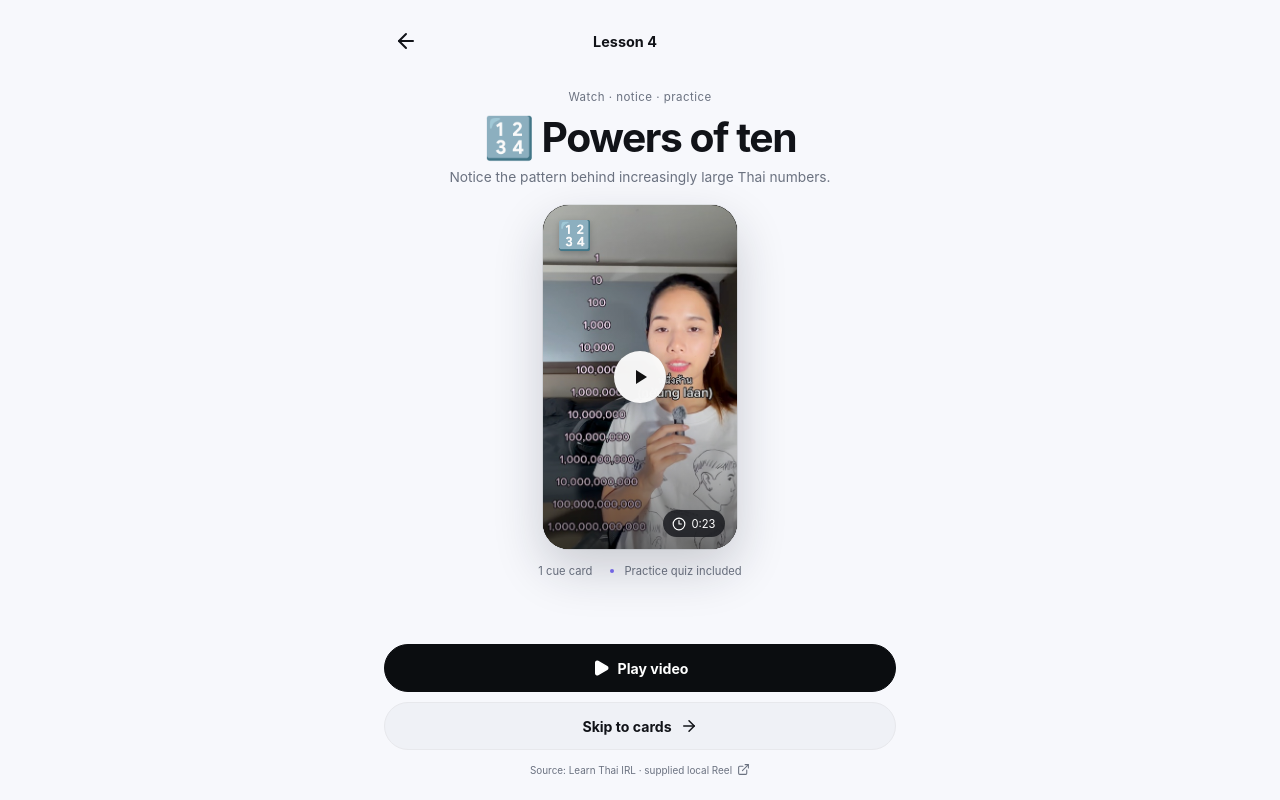
Test case: lesson practice quiz feedback sounds › plays the configured correct cue and a separate perfect-score celebration
Click the button "Skip to cards" at (640, 726), box [384,702,896,750]
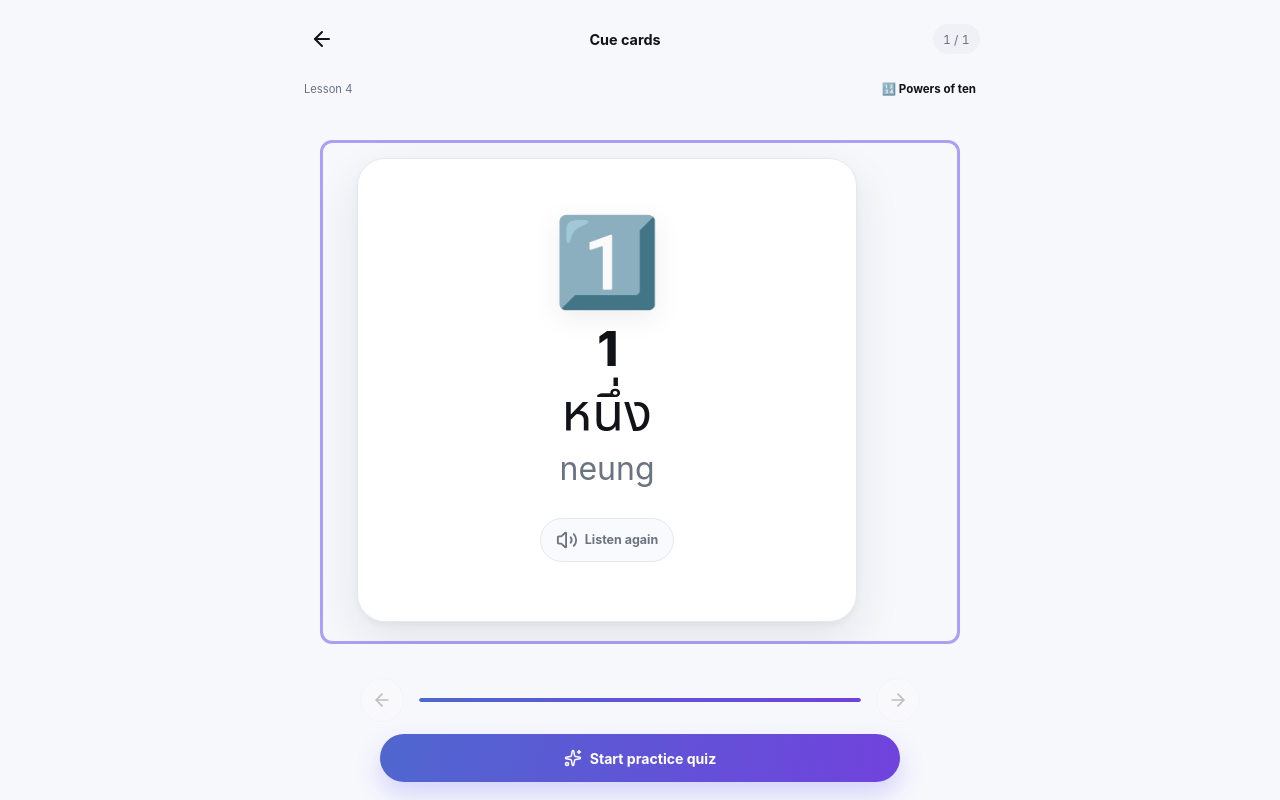
Click the button "Start practice quiz" at (640, 758), box [380,734,900,782]
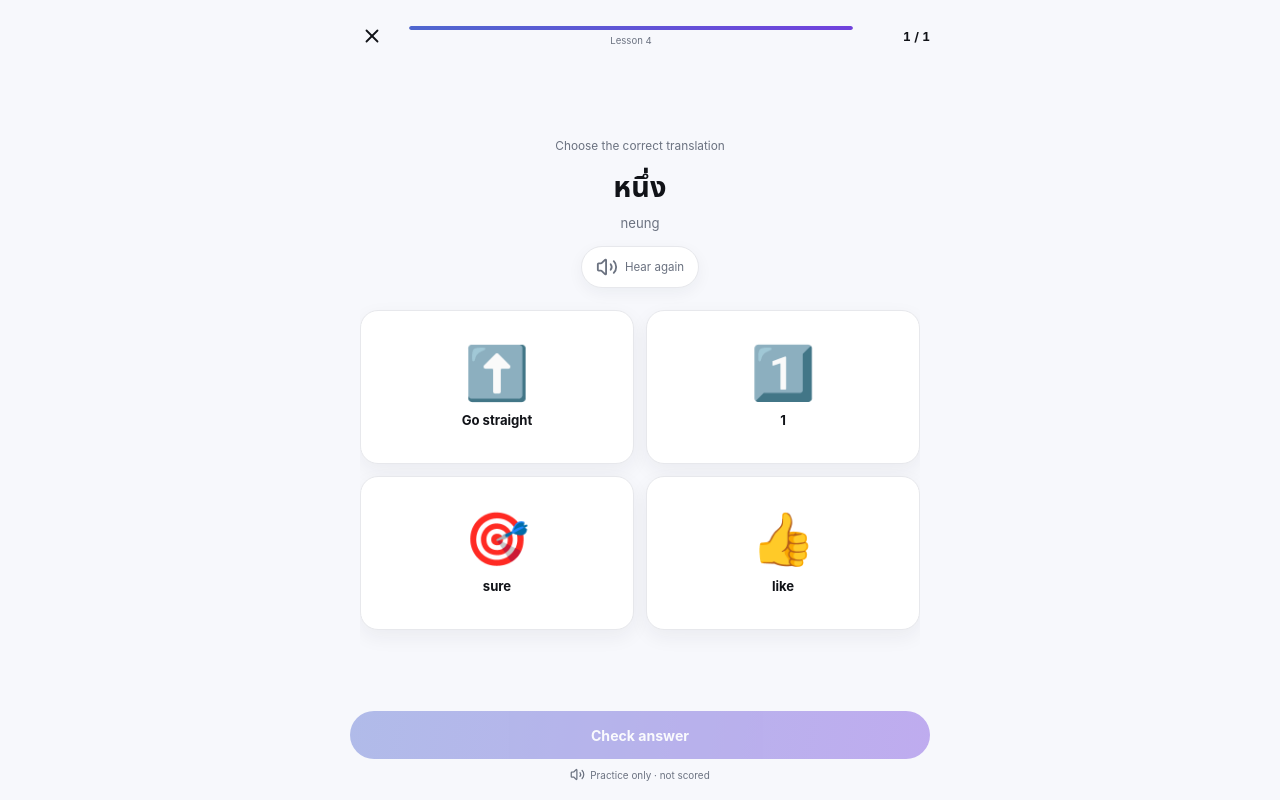
Click the button "1️⃣ 1" at (783, 387), box [646,310,920,464]
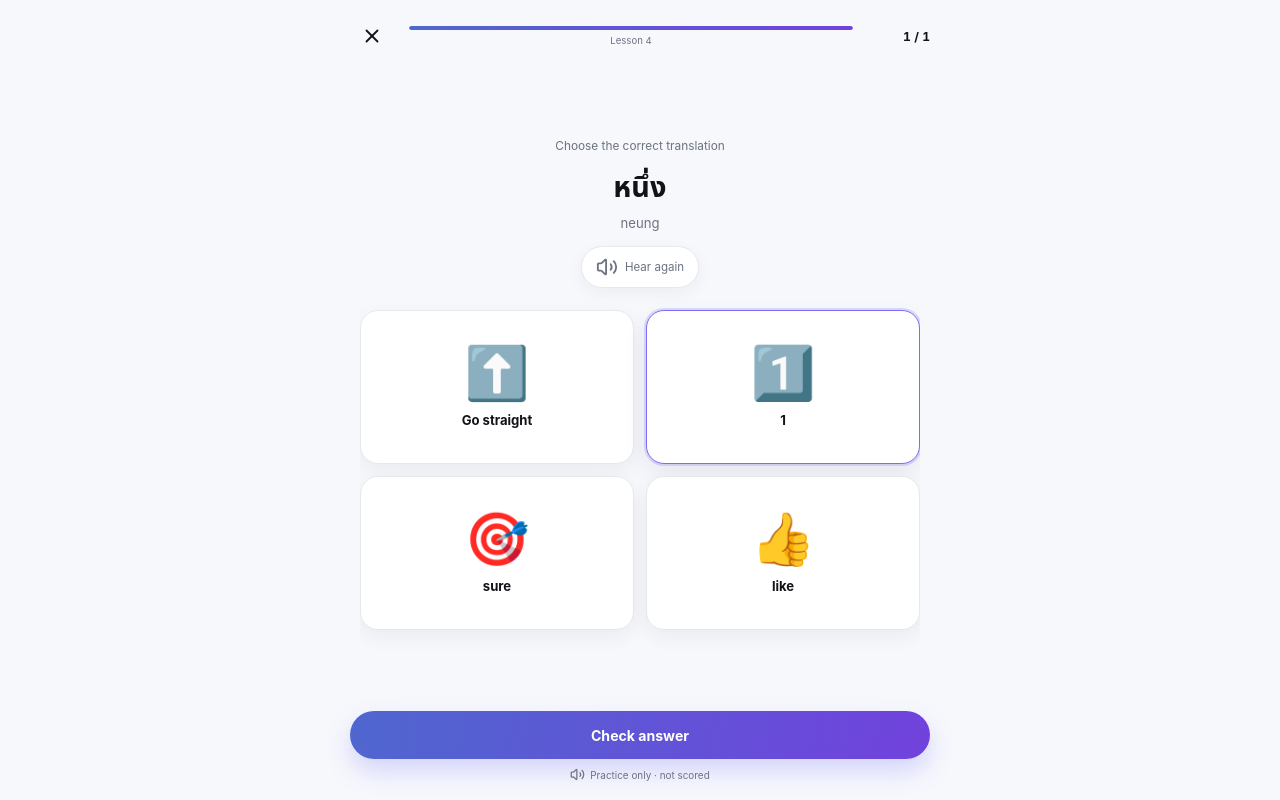
Click the button "Check answer" at (640, 735), box [350,711,930,759]
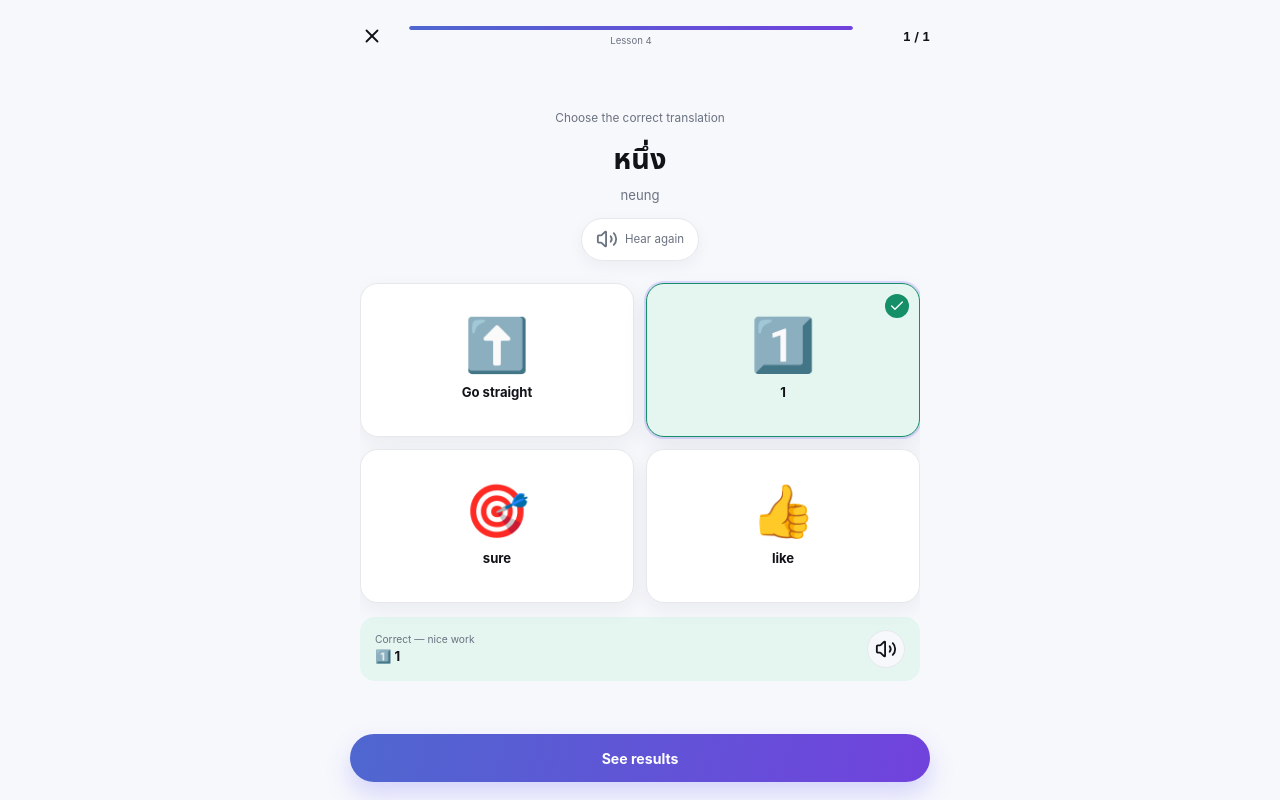
Click the button "See results" at (640, 758), box [350,734,930,782]
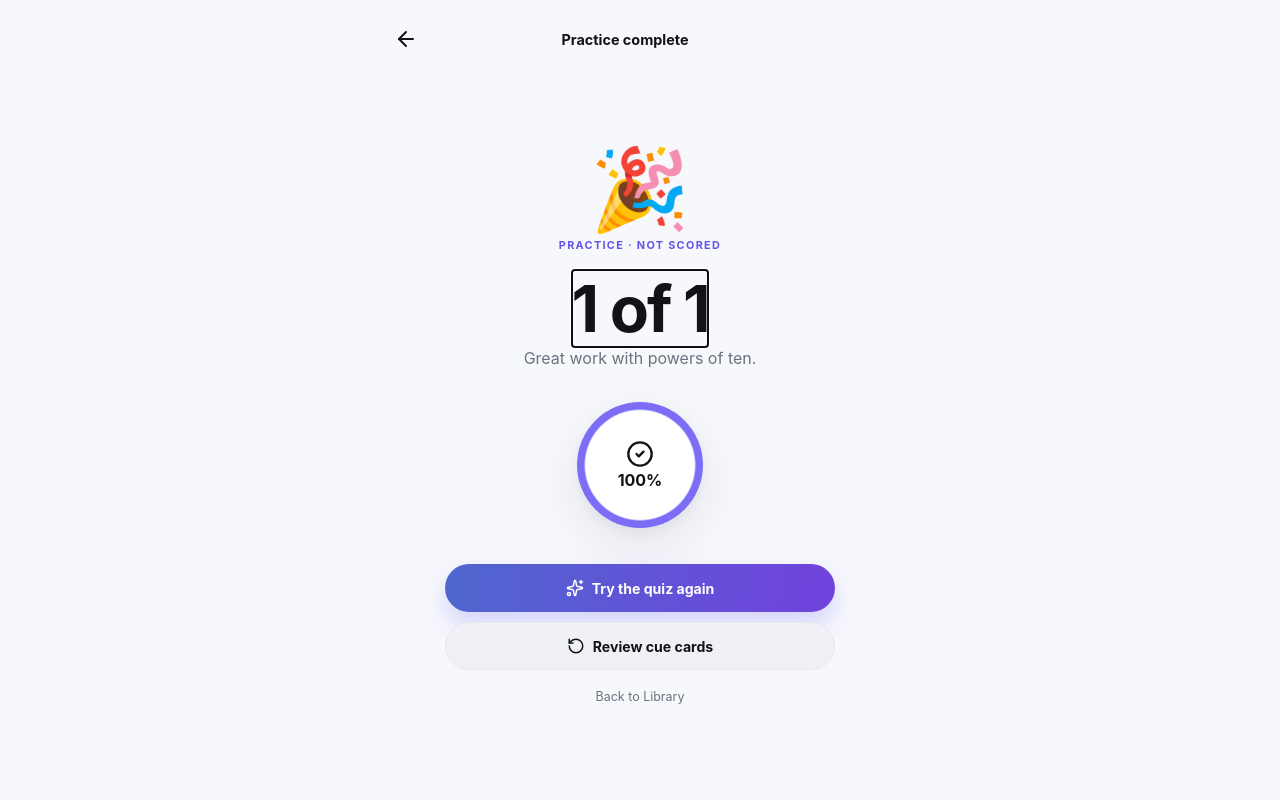
Result: the heading "1 of 1" is shown at [572,276,708,342]
